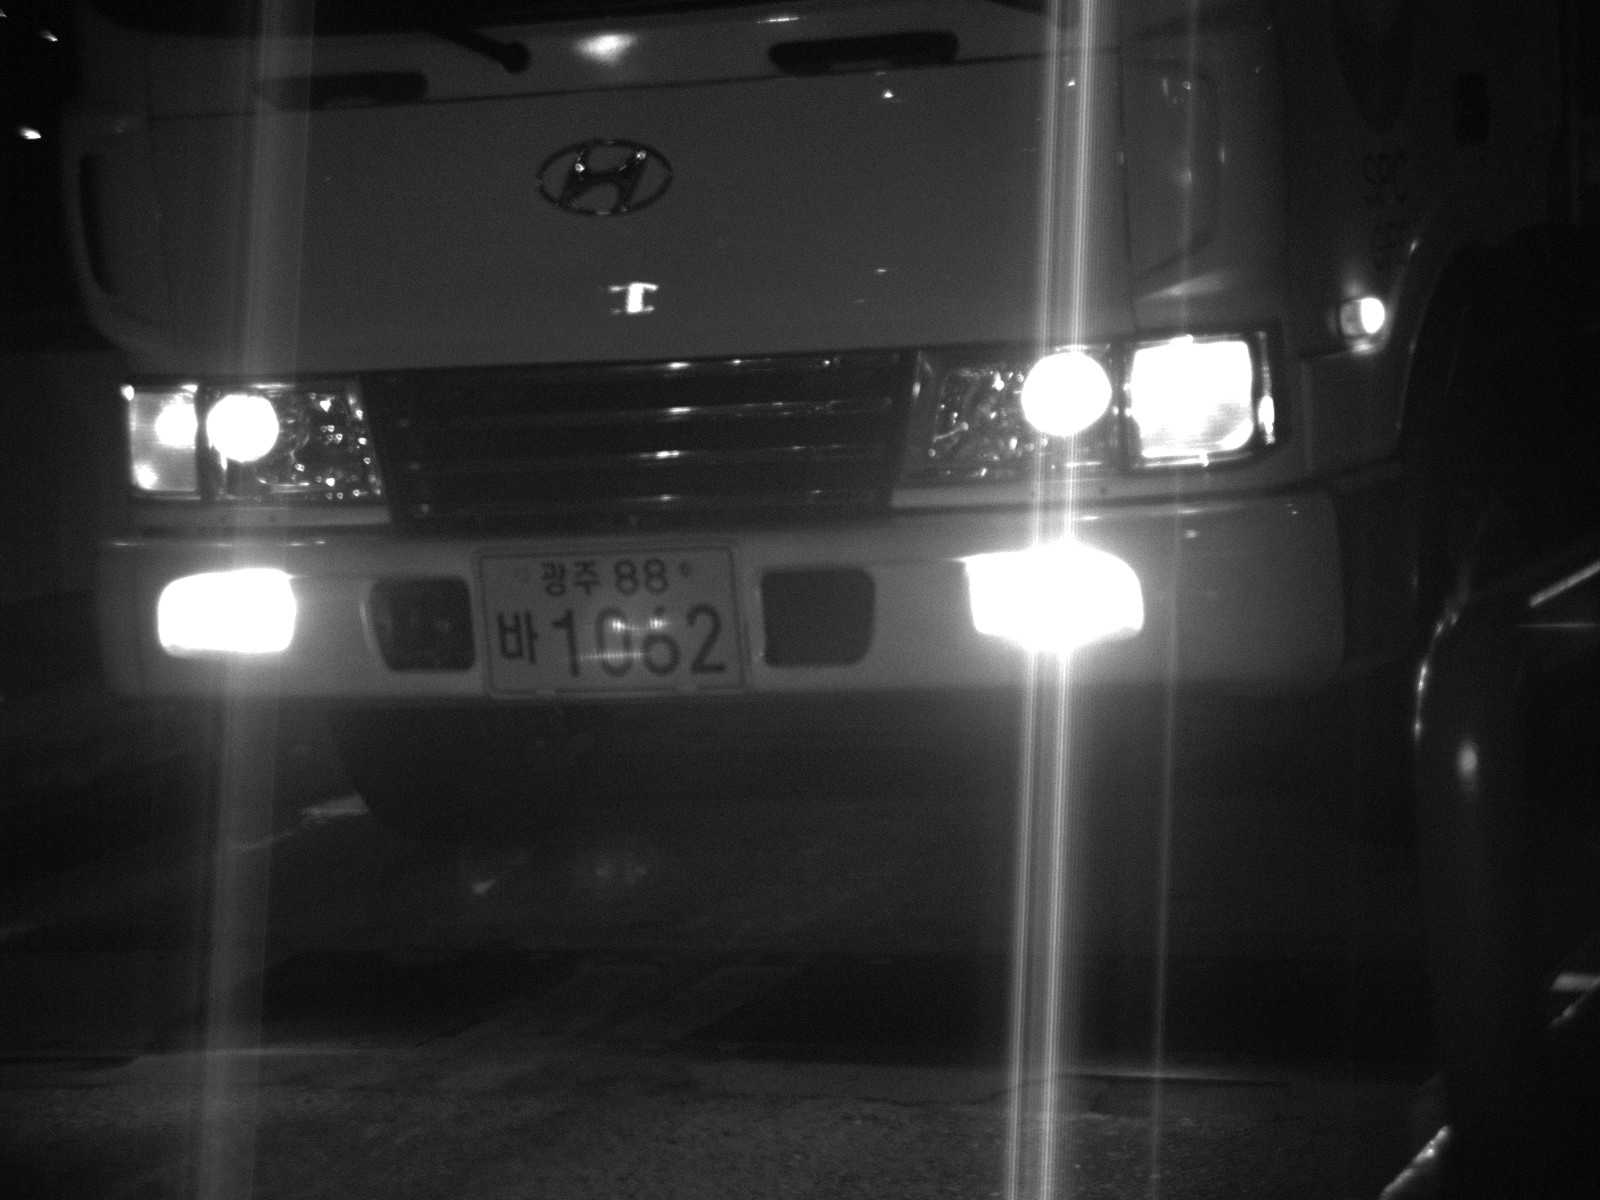car: (46, 1, 1600, 840)
plate: (457, 529, 763, 707)
